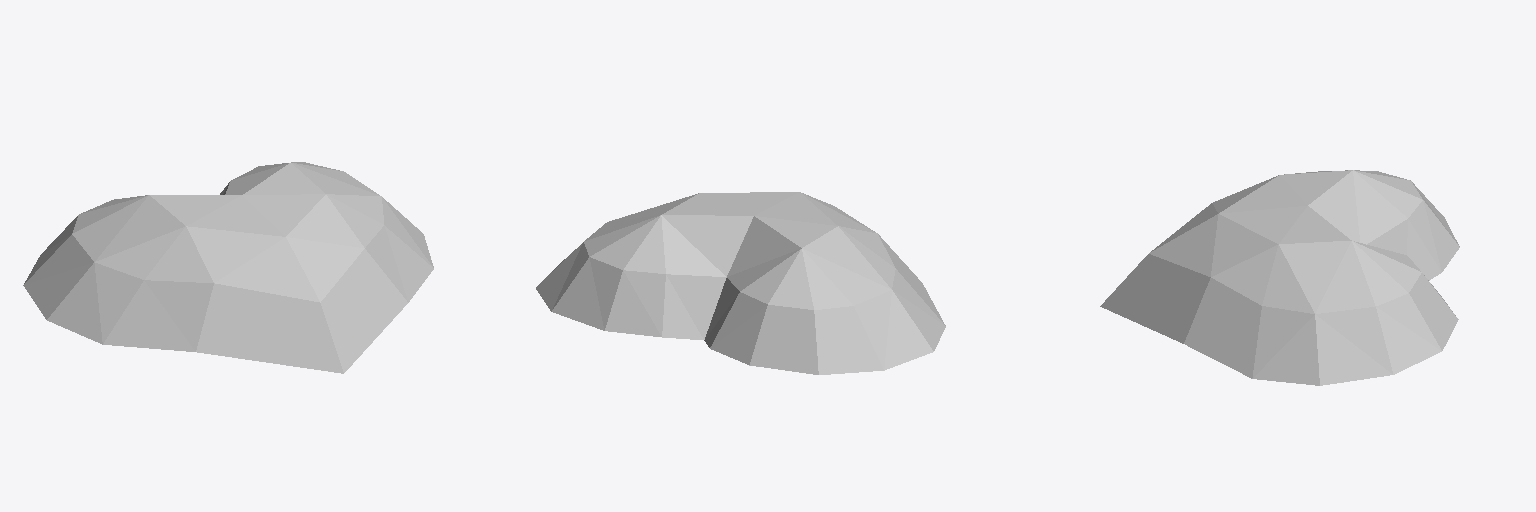
File: heart.obj
The picture shows the model from 3 angles: view 1: azimuth 30°, elevation 25°; view 2: azimuth 150°, elevation 25°; view 3: azimuth 270°, elevation 25°; orthographic projection.
Parts seen in each view (by area): view 1: vsn_mesh_1_polySurface8_mesh_1_polySurface8.001; view 2: vsn_mesh_1_polySurface8_mesh_1_polySurface8.001; view 3: vsn_mesh_1_polySurface8_mesh_1_polySurface8.001.
Boxes of the visible parts, x1=… form: vsn_mesh_1_polySurface8_mesh_1_polySurface8.001: x1=23, y1=162, x2=433, y2=373; vsn_mesh_1_polySurface8_mesh_1_polySurface8.001: x1=536, y1=192, x2=945, y2=374; vsn_mesh_1_polySurface8_mesh_1_polySurface8.001: x1=1100, y1=170, x2=1459, y2=385.
Size of the model in its own units: 0.4334 by 0.1136 by 0.36.